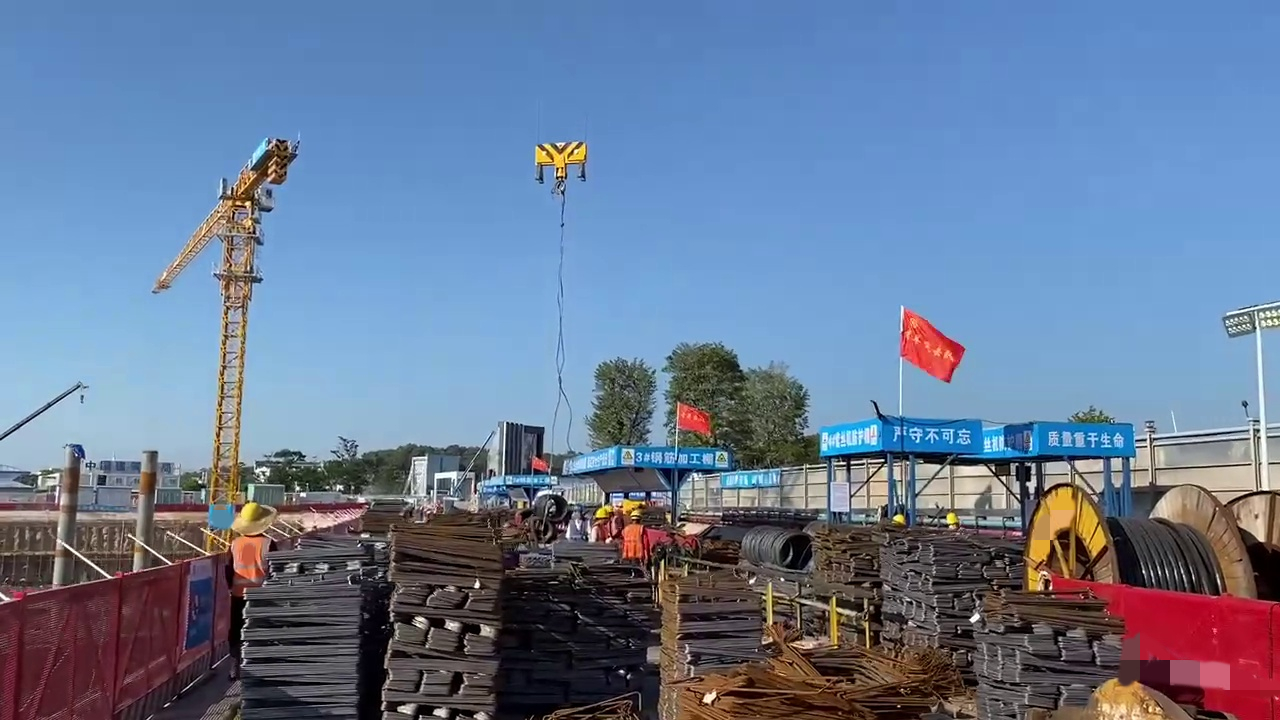fence: (3, 548, 230, 718), (1061, 573, 1280, 720)
helmet: (239, 503, 266, 520), (629, 509, 643, 522), (593, 508, 608, 520)
hook: (535, 135, 590, 180)
person: (229, 498, 269, 677), (622, 508, 649, 559), (587, 507, 610, 543)
rebar: (366, 515, 509, 720), (710, 635, 920, 720), (267, 547, 369, 720), (975, 590, 1100, 720), (656, 562, 742, 720), (882, 535, 960, 680)
slogan: (884, 420, 986, 453), (1037, 424, 1133, 452)
vest: (232, 538, 268, 594), (624, 525, 644, 558)
